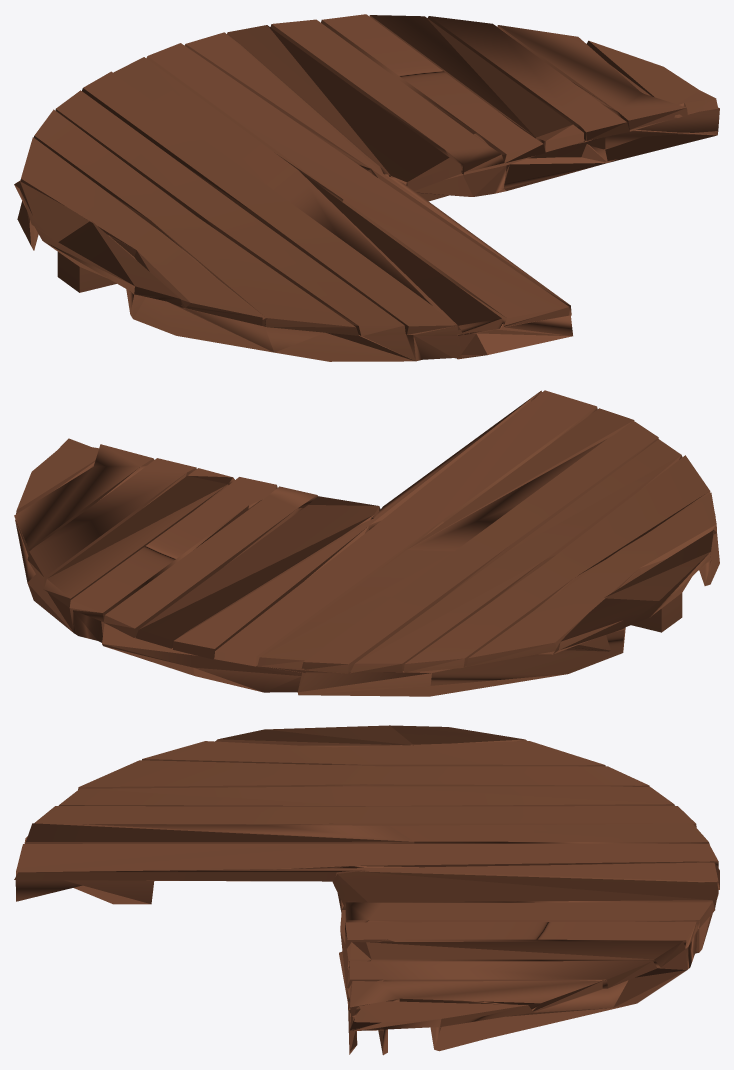
File: wooden foor round with way.fbx
3 views of the same model, one above another, from view 1: azimuth 30°, elevation 25°; view 2: azimuth 150°, elevation 25°; view 3: azimuth 270°, elevation 25° (orthographic). The views are drawn at different scales.
Visible parts, largest first — view 1: floor2_003; view 2: floor2_003; view 3: floor2_003.
Boxes of the visible parts, x1,y1,x2,y2 form: floor2_003: [14, 14, 719, 361]; floor2_003: [14, 390, 719, 696]; floor2_003: [14, 725, 719, 1055].
Bounding box in the file's own units: 975 × 52.5 × 969.
Materials: 1 (1 with a texture image).
